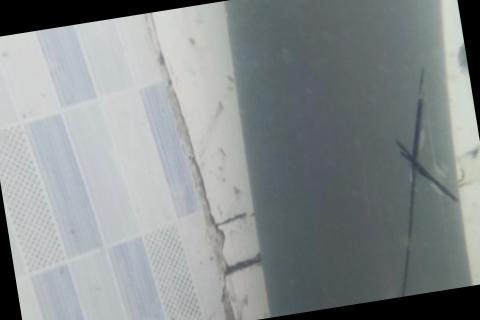keretakan: (355, 66, 473, 298)
